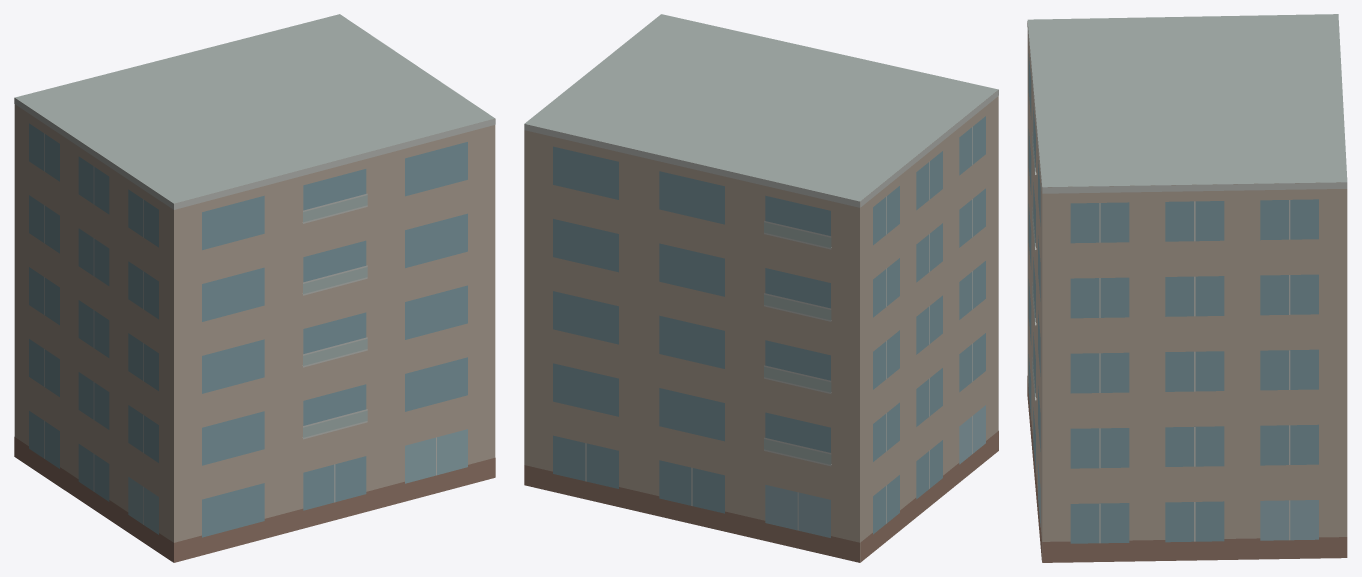
The model's file is survey-upis-32822484.glb.
3 views of the same model, side by side, from view 1: azimuth 30°, elevation 25°; view 2: azimuth 150°, elevation 25°; view 3: azimuth 270°, elevation 25° (orthographic). The views are drawn at different scales.
Parts seen in each view (by area): view 1: survey-upis-32822484.tmp; view 2: survey-upis-32822484.tmp; view 3: survey-upis-32822484.tmp.
Part boxes in pixels (x1=…): survey-upis-32822484.tmp: x1=14, y1=14, x2=495, y2=562; survey-upis-32822484.tmp: x1=524, y1=14, x2=998, y2=562; survey-upis-32822484.tmp: x1=1027, y1=14, x2=1347, y2=562.
Size of the model in its own units: 13.85 by 14 by 10.82.
